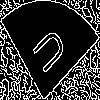U: (25, 25, 69, 82)
